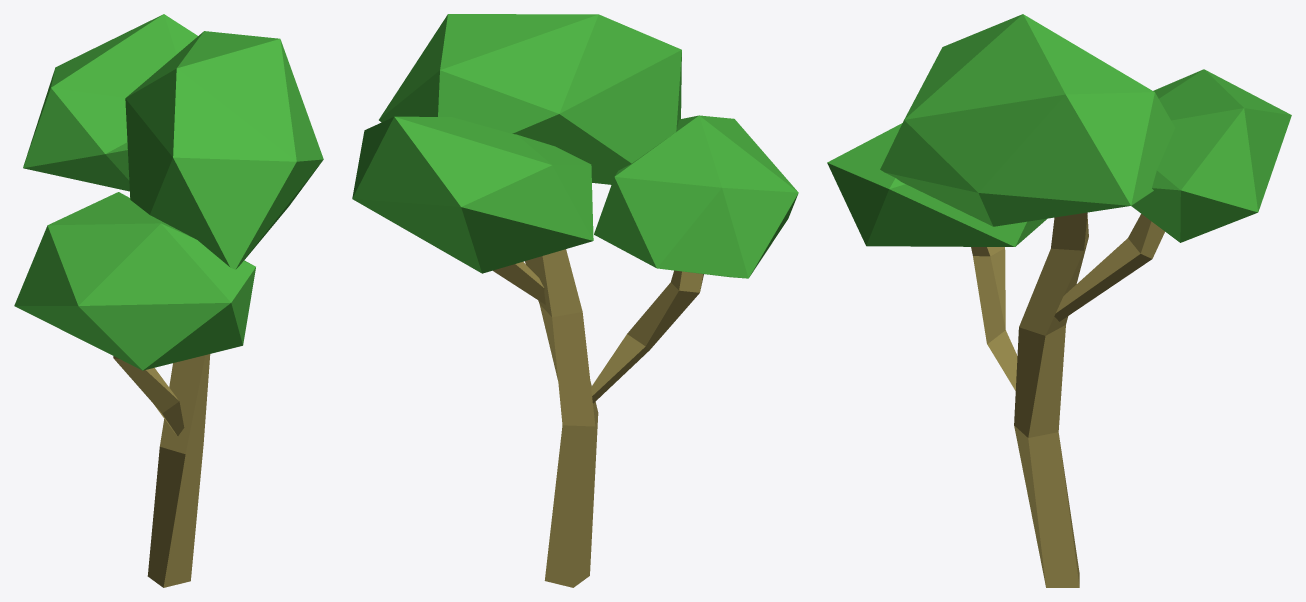
Rendered from Tree_7.fbx.
The picture shows the model from 3 angles, left to right: view 1: azimuth 30°, elevation 25°; view 2: azimuth 150°, elevation 25°; view 3: azimuth 270°, elevation 25°; orthographic projection. The views are drawn at different scales.
Visible parts, largest first — view 1: Leaves.002, Leaves, Leaves.001, Trunk, Trunk.002; view 2: Leaves.002, Leaves.001, Leaves, Trunk, Trunk.002, Trunk.001; view 3: Leaves.002, Leaves.001, Trunk, Leaves, Trunk.001, Trunk.002.
Part boxes in pixels (left/top/right/bottom): Leaves.002: left=125, top=31, right=323, bottom=269; Leaves: left=14, top=192, right=255, bottom=370; Leaves.001: left=23, top=14, right=197, bottom=191; Trunk: left=147, top=354, right=210, bottom=587; Trunk.002: left=113, top=356, right=184, bottom=436; Leaves.002: left=379, top=14, right=681, bottom=184; Leaves.001: left=352, top=116, right=593, bottom=273; Leaves: left=594, top=115, right=798, bottom=278; Trunk: left=525, top=249, right=598, bottom=587; Trunk.002: left=591, top=270, right=703, bottom=403; Trunk.001: left=493, top=262, right=545, bottom=304; Leaves.002: left=880, top=14, right=1174, bottom=226; Leaves.001: left=1131, top=69, right=1291, bottom=242; Trunk: left=1014, top=212, right=1088, bottom=587; Leaves: left=827, top=123, right=1046, bottom=246; Trunk.001: left=1054, top=214, right=1164, bottom=321; Trunk.002: left=971, top=247, right=1017, bottom=390.
Size of the model in its own units: 213 by 345 by 259.
